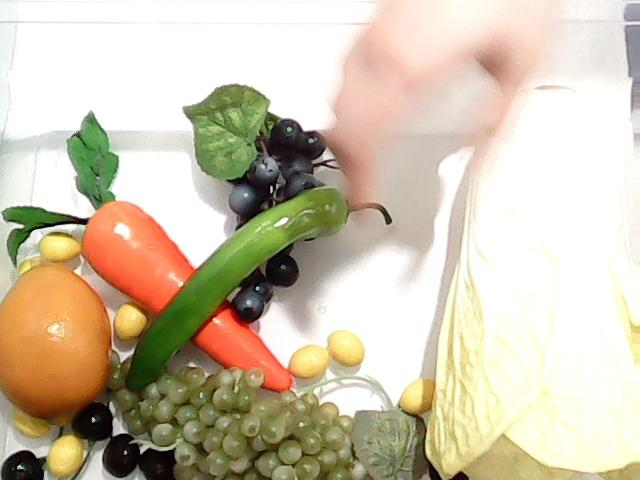carrot: (0, 108, 296, 392)
grape: (100, 339, 424, 480), (183, 84, 327, 324)
lemon: (0, 260, 112, 420)
napa cabbage: (414, 77, 640, 479)
pepper: (114, 187, 352, 393)
